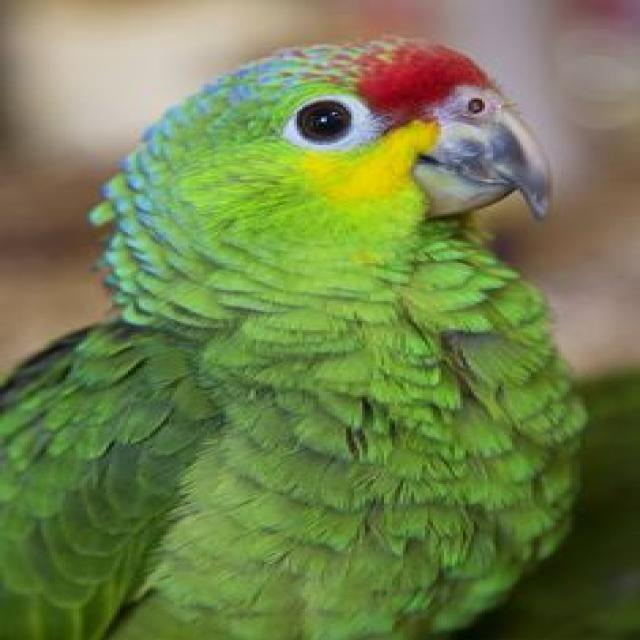Herbivorous: (0, 36, 588, 640)
